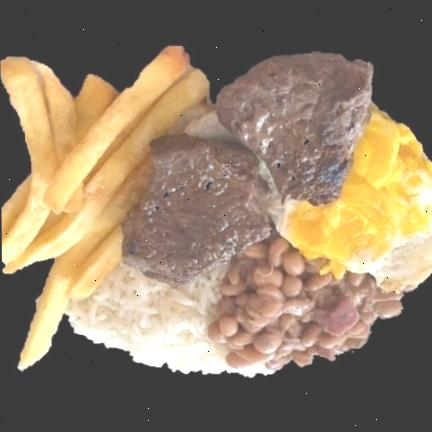beans: (207, 236, 402, 369)
egg: (275, 105, 431, 289)
meat: (123, 51, 373, 283)
potato: (0, 46, 209, 367)
rice: (67, 265, 234, 373)
